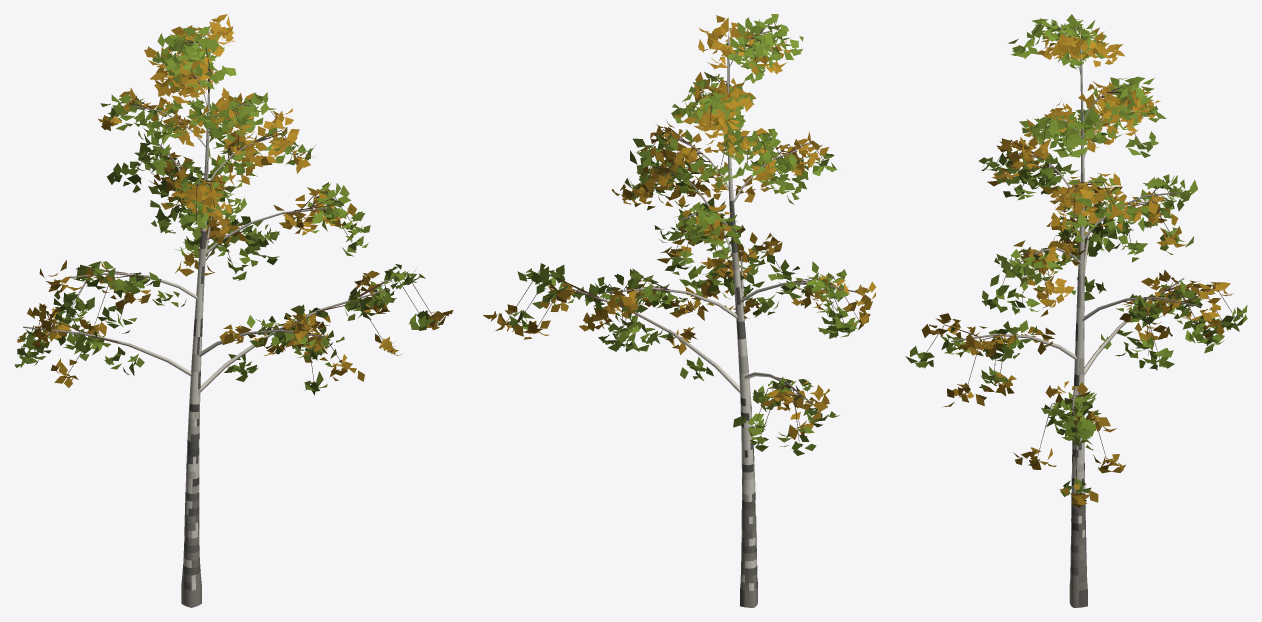
File: birch_b.glb
3 views of the same model, side by side, from view 1: azimuth 30°, elevation 25°; view 2: azimuth 150°, elevation 25°; view 3: azimuth 270°, elevation 25° (orthographic).
Visible parts, largest first — view 1: LOD0; view 2: LOD0; view 3: LOD0.
Part boxes in pixels (bbox=[...]): LOD0: bbox=[15, 14, 453, 607]; LOD0: bbox=[483, 14, 876, 607]; LOD0: bbox=[905, 14, 1247, 607].
Size of what is drawn, in the model's own units: 8.6 by 11.9 by 6.31.
